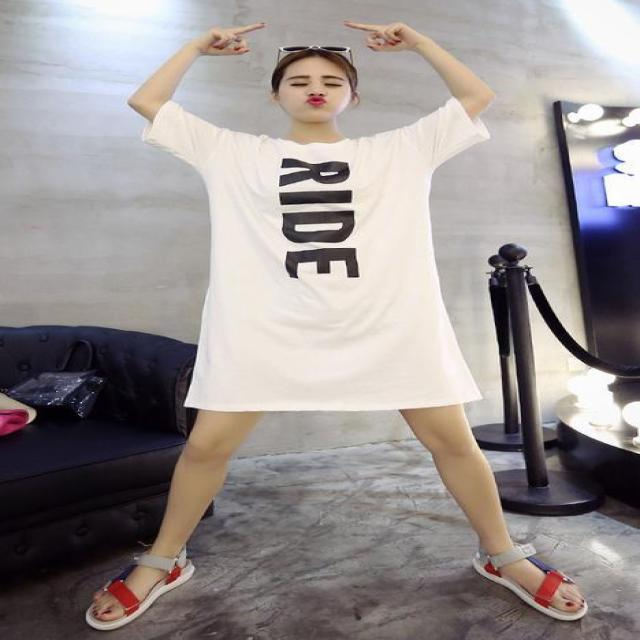short-sleeve-dress: (141, 93, 554, 427)
